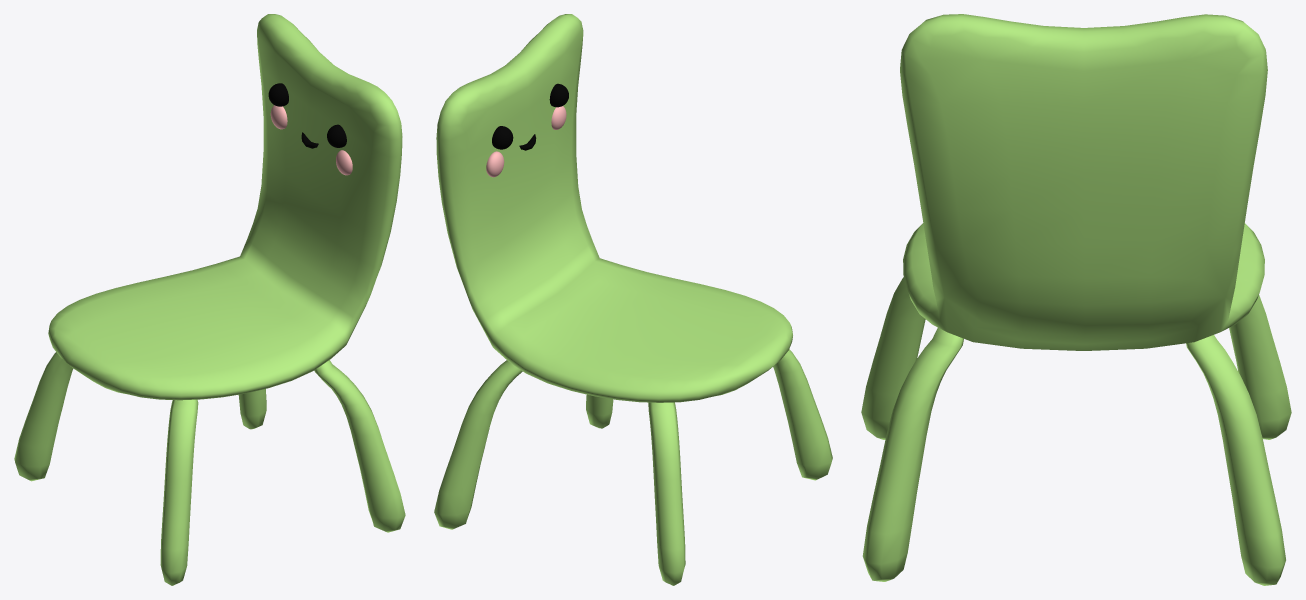
The model's file is Frog_chair.fbx.
The picture shows the model from 3 angles, left to right: view 1: azimuth 30°, elevation 25°; view 2: azimuth 150°, elevation 25°; view 3: azimuth 270°, elevation 25°; orthographic projection. The views are drawn at different scales.
Parts seen in each view (by area): view 1: Cube.001; view 2: Cube.001; view 3: Cube.001.
Boxes of the visible parts, x1=… form: Cube.001: x1=14, y1=14, x2=405, y2=585; Cube.001: x1=434, y1=14, x2=832, y2=585; Cube.001: x1=861, y1=14, x2=1291, y2=585.
Bounding box in the file's own units: 2.24 × 3.25 × 2.21.
